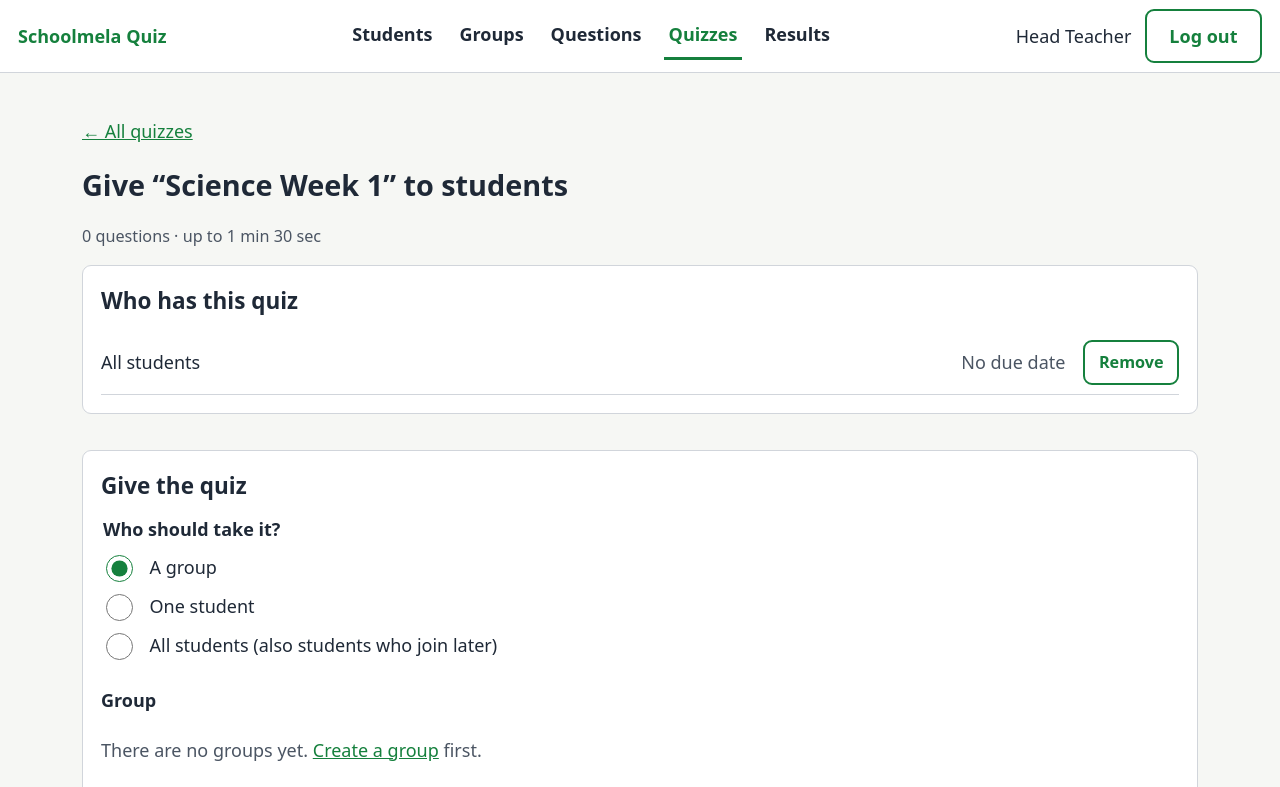
Test: assigning a quiz › shows who has the quiz and takes it away
This screenshot has width=1280, height=787.
Expected: the text "All students" is shown, [101,350,200,374]
Step 1. Click the button with aria-label "Remove All students" → x=1131, y=362, box [1083,340,1179,385]
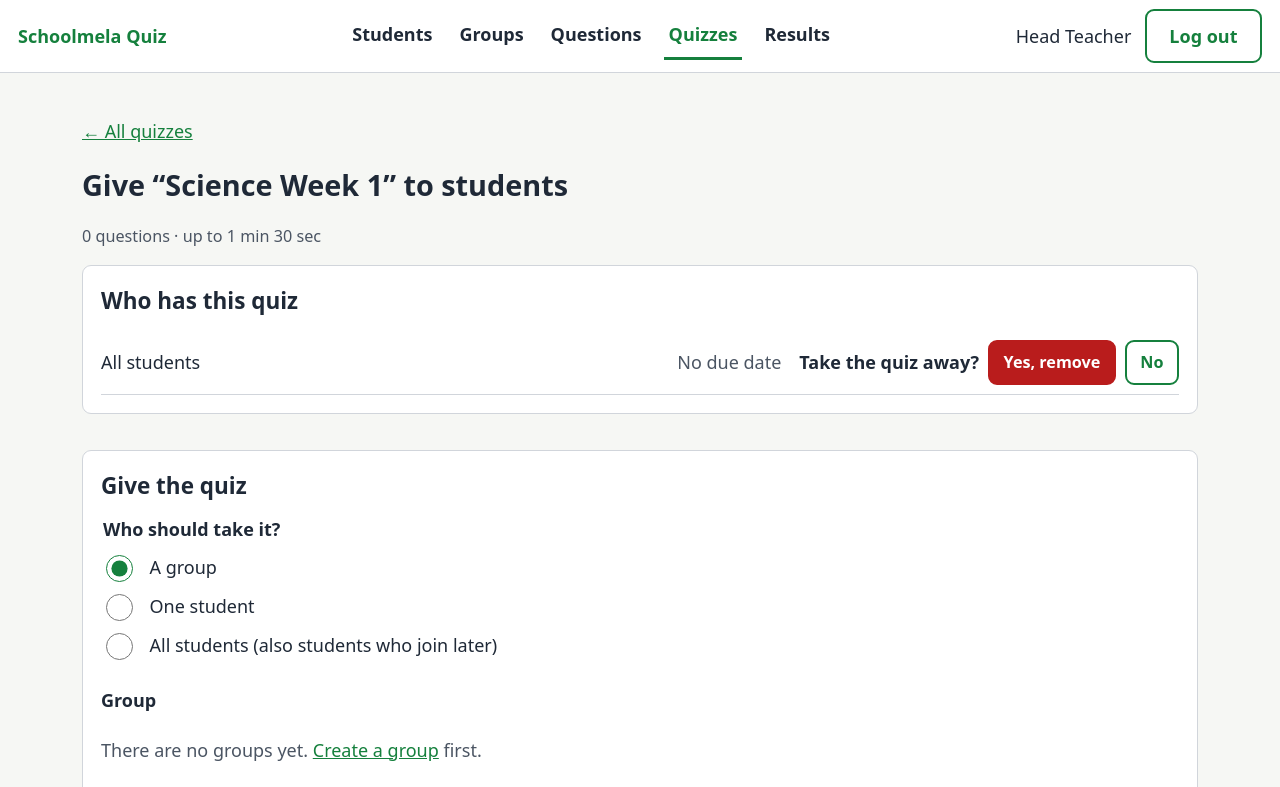
Step 2. Click the button "Yes, remove" → x=1052, y=362, box [988,340,1116,385]
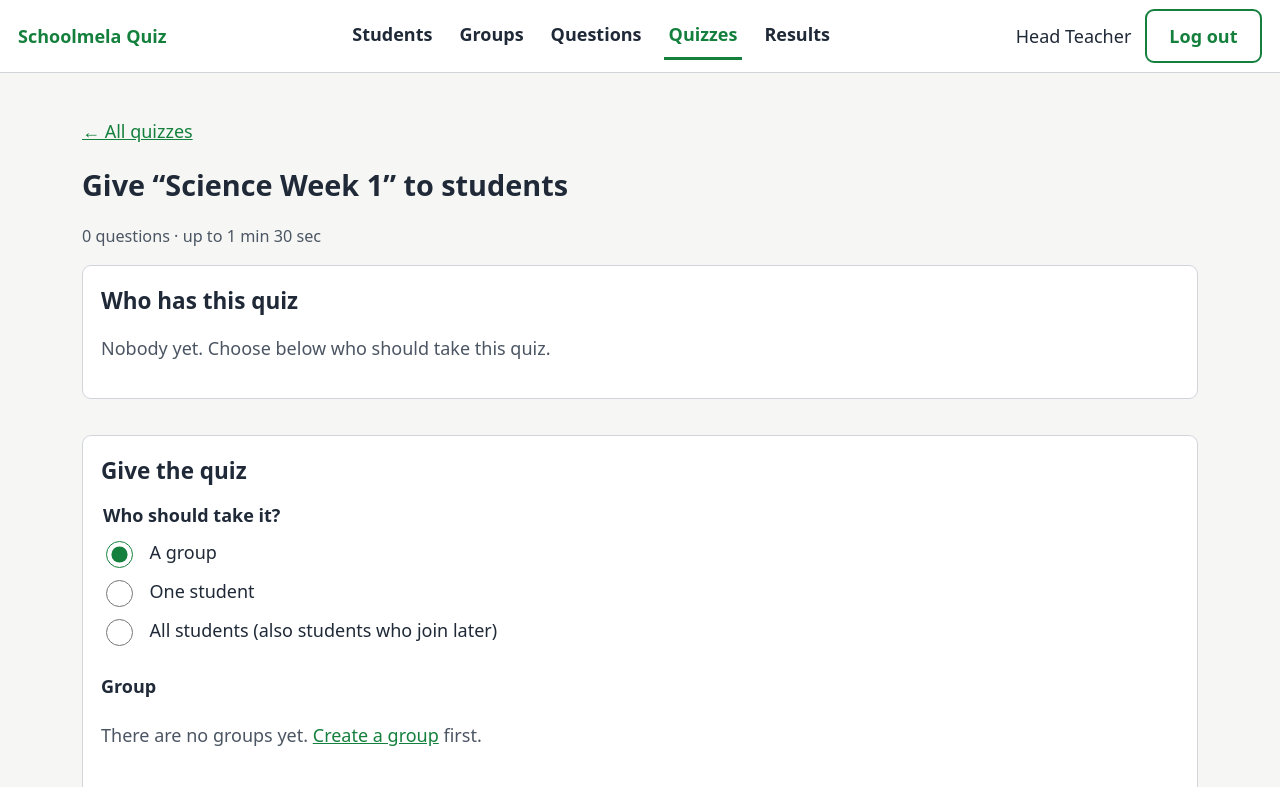
Expected: the text "Nobody yet. Choose below who should take this quiz." is shown, [101,336,550,360]
